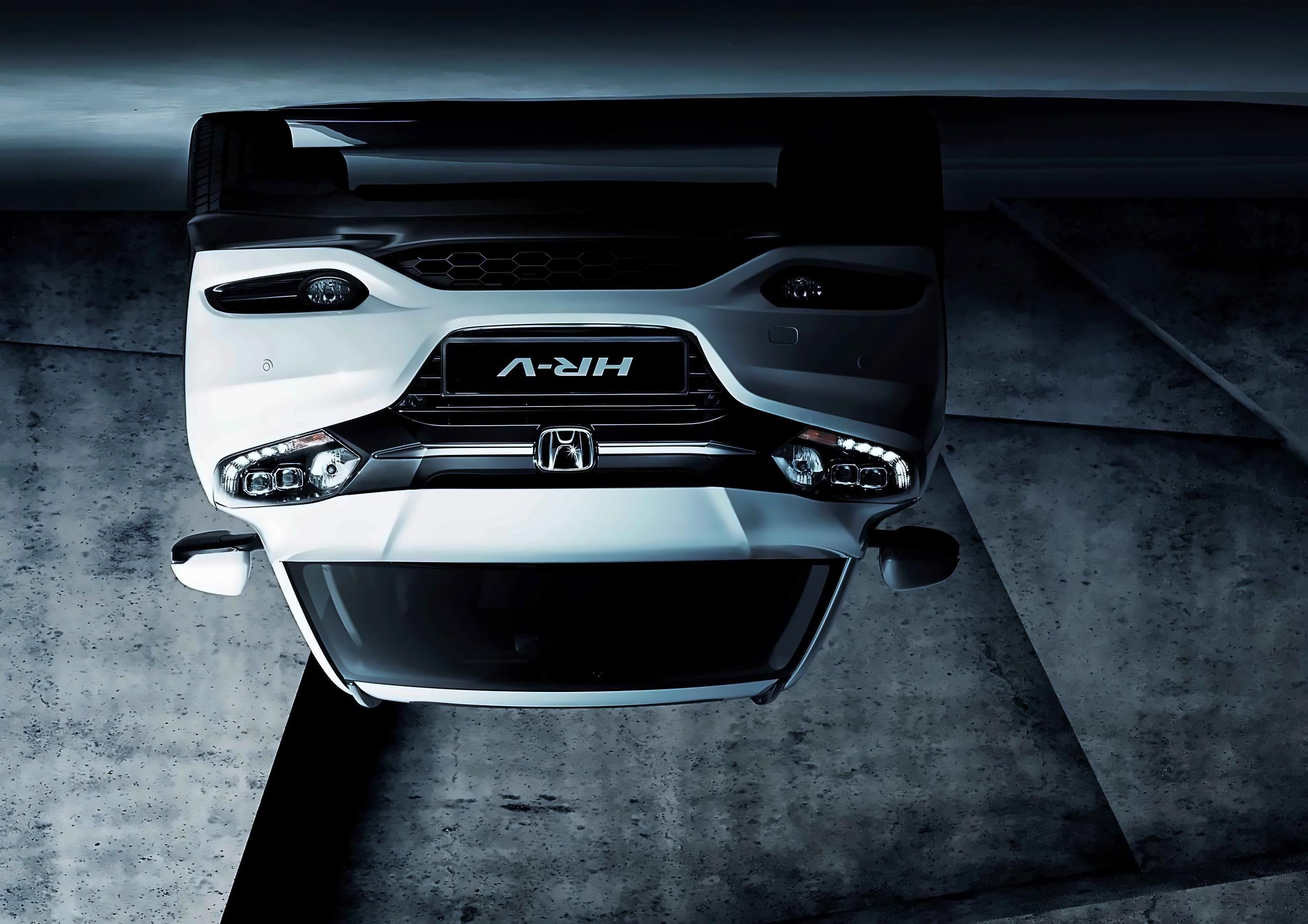Car hood: (232, 484, 896, 571)
Front bumper: (174, 177, 953, 448)
Headlight - -L-: (219, 423, 369, 506)
Headlight - -R-: (763, 422, 915, 511)
Side mirror - -L-: (164, 521, 264, 602)
Side mirror - -R-: (869, 515, 961, 603)
